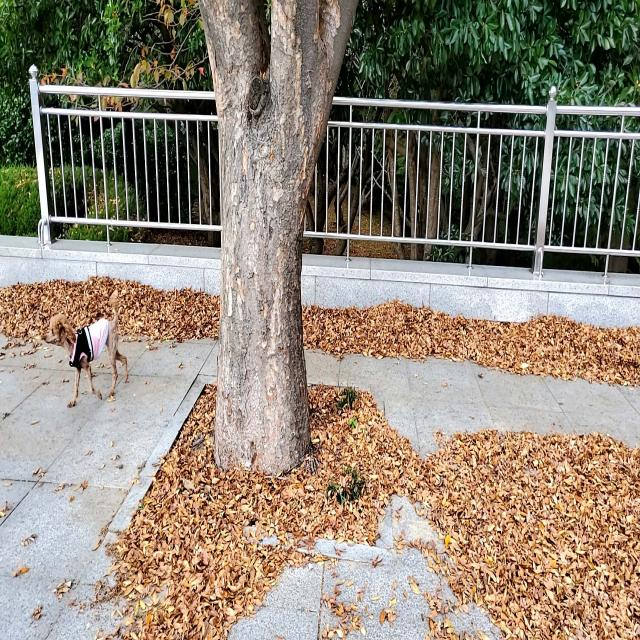Dog: (43, 296, 129, 408)
